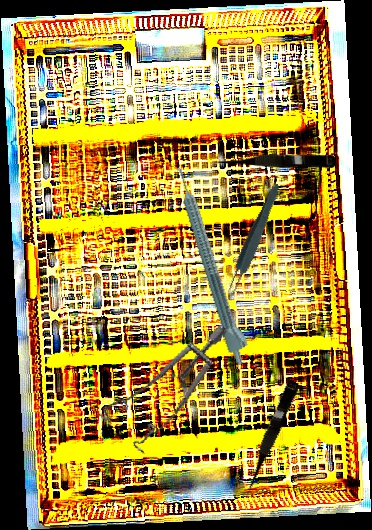Handpiece: (172, 162, 256, 368)
Micro Scissor: (239, 378, 301, 495), (211, 152, 337, 168)
Speculum: (90, 297, 229, 468)
Tissue Forceps: (221, 180, 285, 300)
